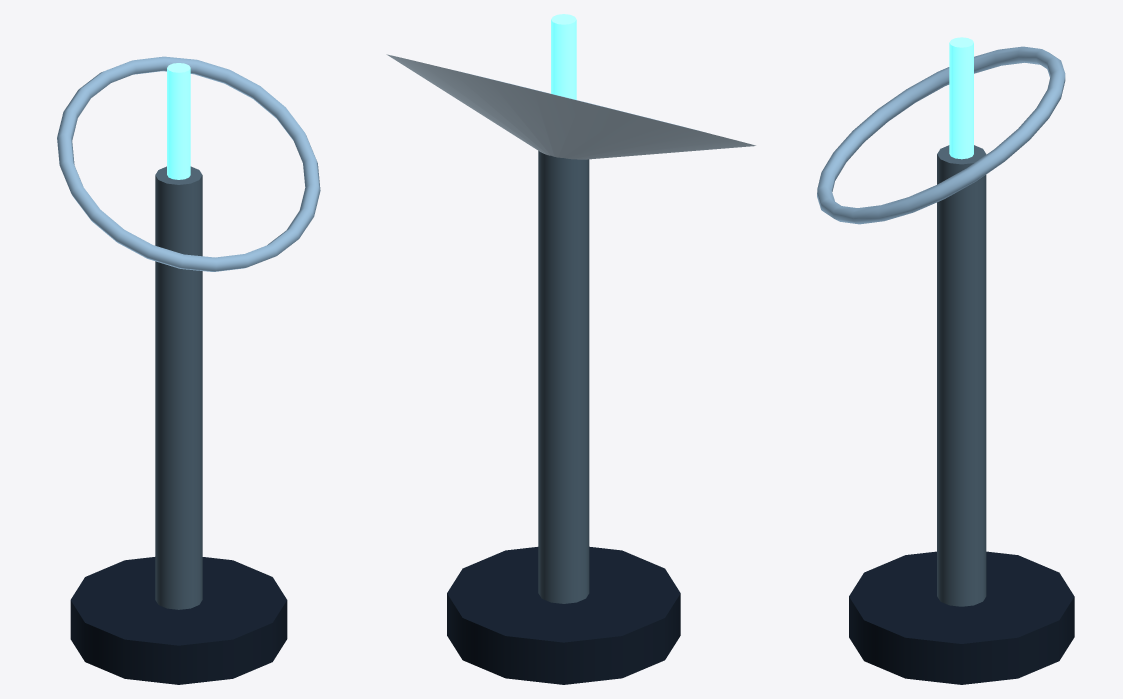
File: device-beacon.glb
The picture shows the model from 3 angles, left to right: view 1: azimuth 30°, elevation 25°; view 2: azimuth 150°, elevation 25°; view 3: azimuth 270°, elevation 25°; orthographic projection. The views are drawn at different scales.
Visible parts, largest first — view 1: beacon-base, beacon-mast, state-light, beacon-emitter; view 2: beacon-base, beacon-mast, beacon-dish, beacon-emitter; view 3: beacon-base, beacon-mast, state-light, beacon-emitter.
Boxes of the visible parts, bbox=[...] form: beacon-base: bbox=[70, 557, 287, 684]; beacon-mast: bbox=[155, 166, 202, 609]; state-light: bbox=[57, 56, 320, 271]; beacon-emitter: bbox=[167, 63, 190, 179]; beacon-base: bbox=[447, 546, 680, 684]; beacon-mast: bbox=[538, 151, 589, 603]; beacon-dish: bbox=[386, 54, 755, 159]; beacon-emitter: bbox=[551, 14, 576, 99]; beacon-base: bbox=[849, 551, 1074, 684]; beacon-mast: bbox=[937, 145, 986, 606]; state-light: bbox=[817, 46, 1065, 224]; beacon-emitter: bbox=[949, 37, 973, 159].
Bounding box in the file's own units: 1.8 × 3.2 × 1.58.
